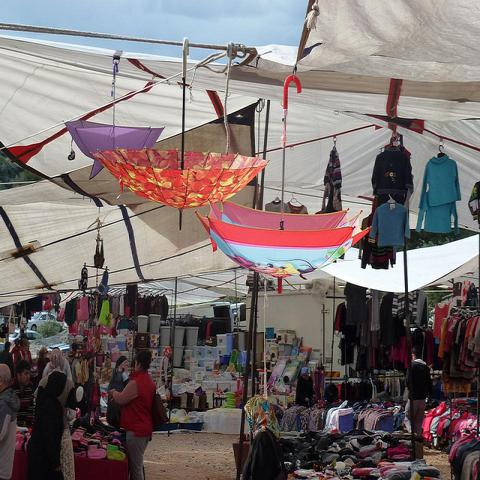car: (27, 310, 65, 332), (9, 330, 40, 344)
